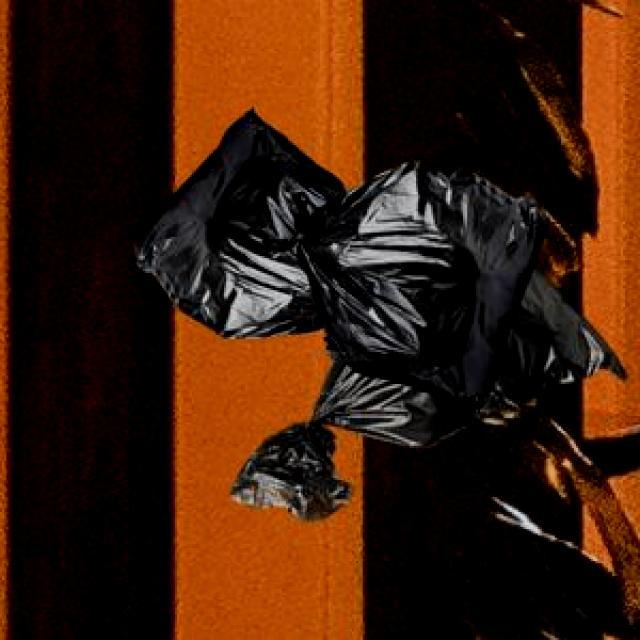Trashbag: (272, 163, 555, 401), (131, 102, 346, 343)
